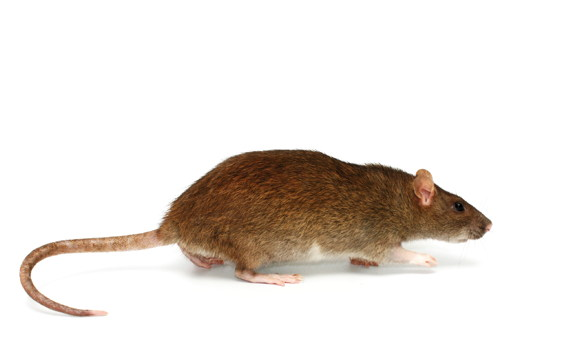rat: (14, 145, 499, 325)
